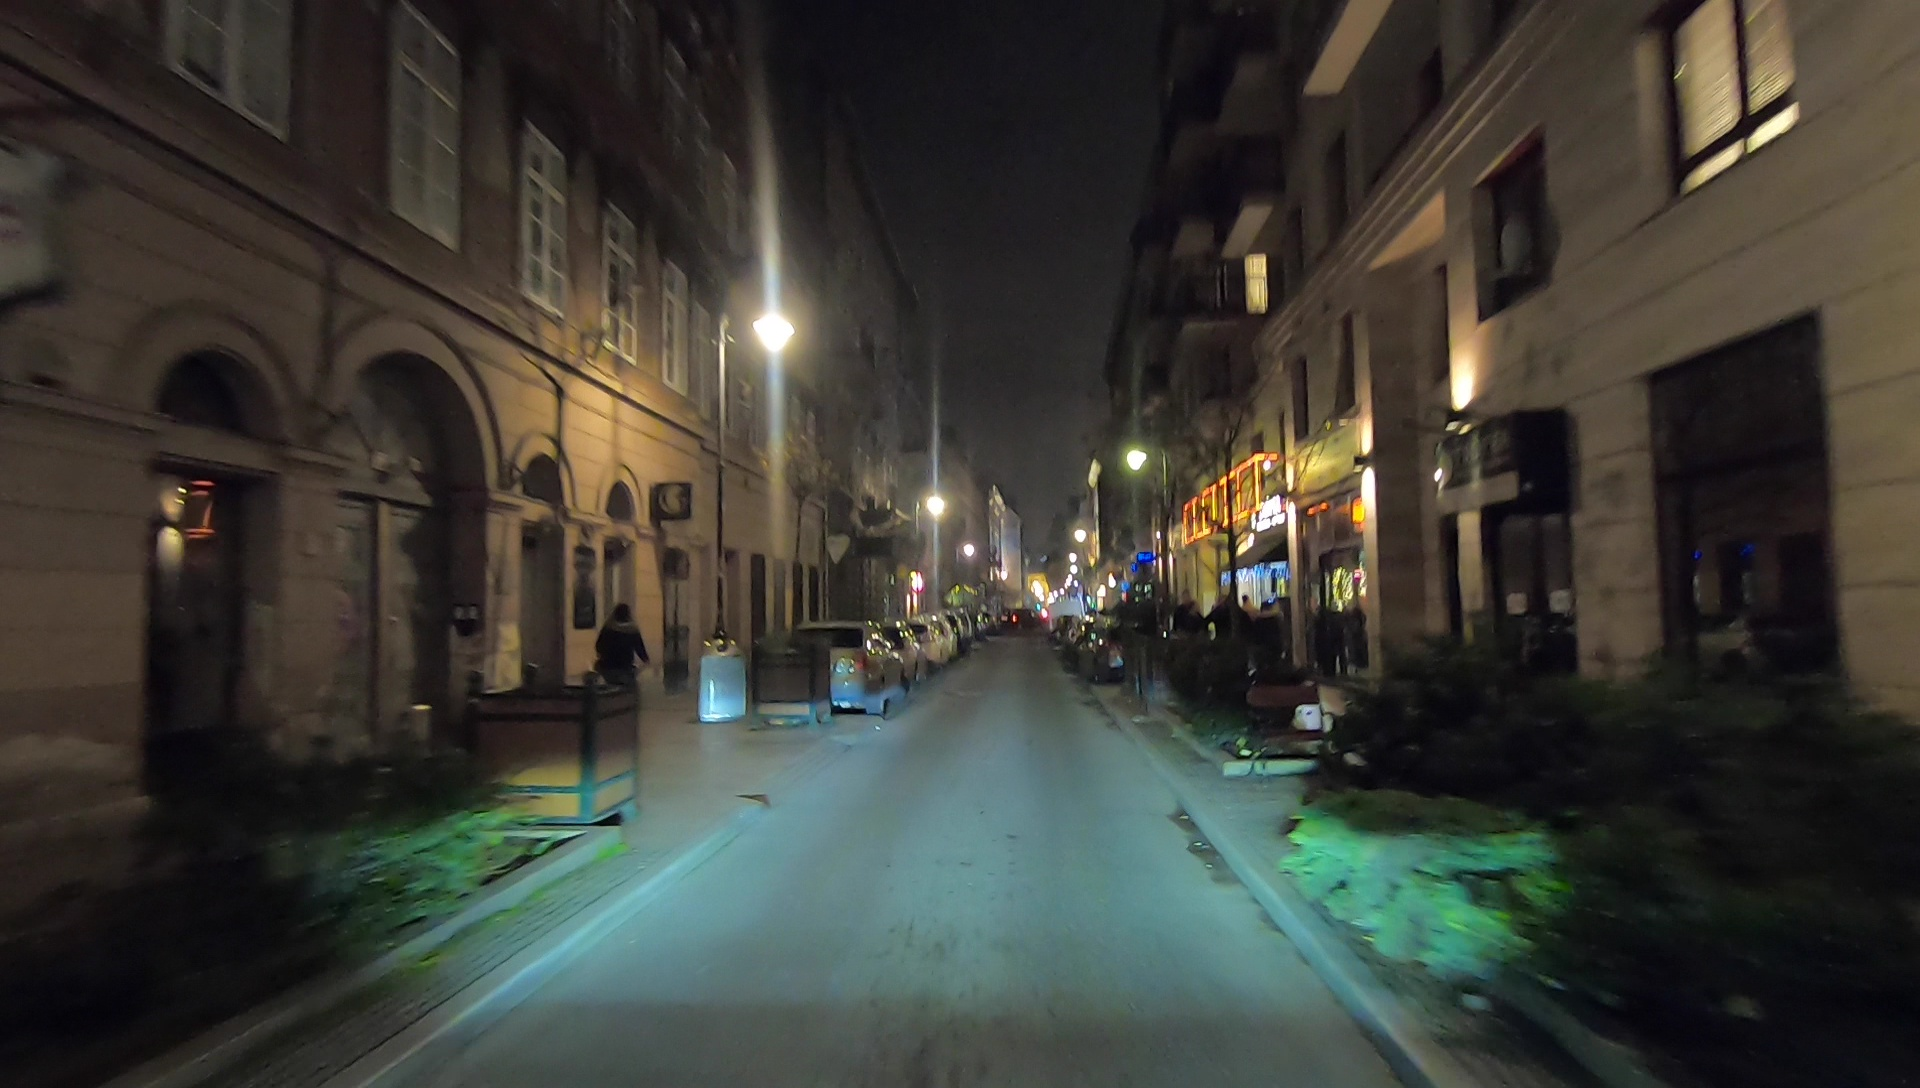person: (595, 595, 651, 721), (1173, 593, 1209, 668), (1210, 591, 1241, 674), (1241, 593, 1260, 670), (1260, 601, 1284, 665)
